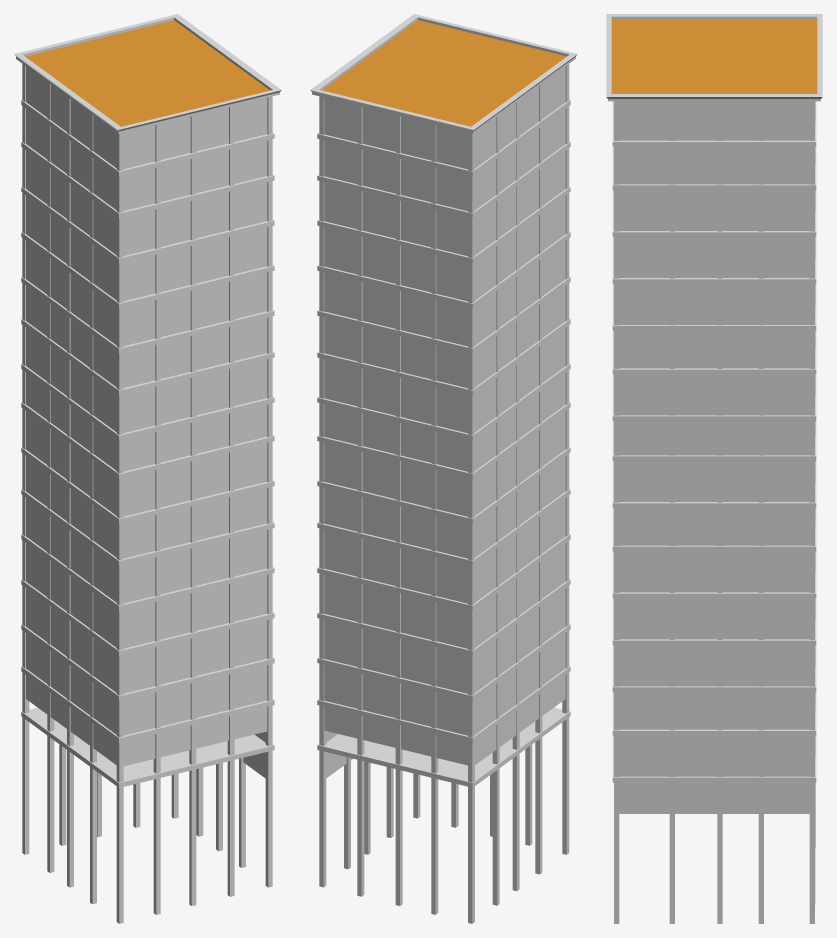
The model's file is building.fbx.
3 renders of one model, left to right at view 1: azimuth 30°, elevation 25°; view 2: azimuth 150°, elevation 25°; view 3: azimuth 270°, elevation 25°, orthographic. The views are drawn at different scales.
Visible parts, largest first — view 1: Cube.002, Cube, Cube.001; view 2: Cube.002, Cube, Cube.001; view 3: Cube.002, Cube, Cube.001.
Boxes of the visible parts, x1,y1,x2,y2 form: Cube.002: (26, 66, 267, 778); Cube: (14, 14, 281, 787); Cube.001: (22, 64, 272, 923); Cube.002: (324, 66, 565, 777); Cube: (310, 14, 577, 787); Cube.001: (319, 64, 569, 923); Cube.002: (619, 101, 809, 813); Cube: (606, 14, 822, 782); Cube.001: (614, 101, 815, 923).
Size of the model in its own units: 7358 by 34244 by 8096.
